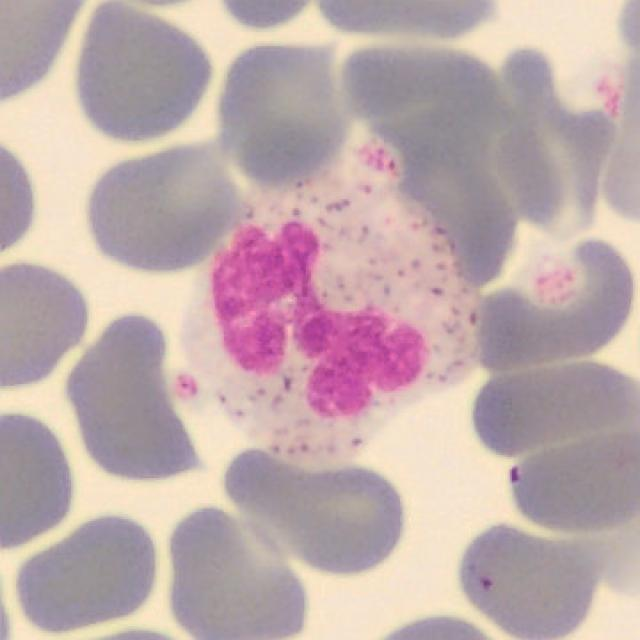Neutrofilo segmentado: (178, 168, 489, 477)
